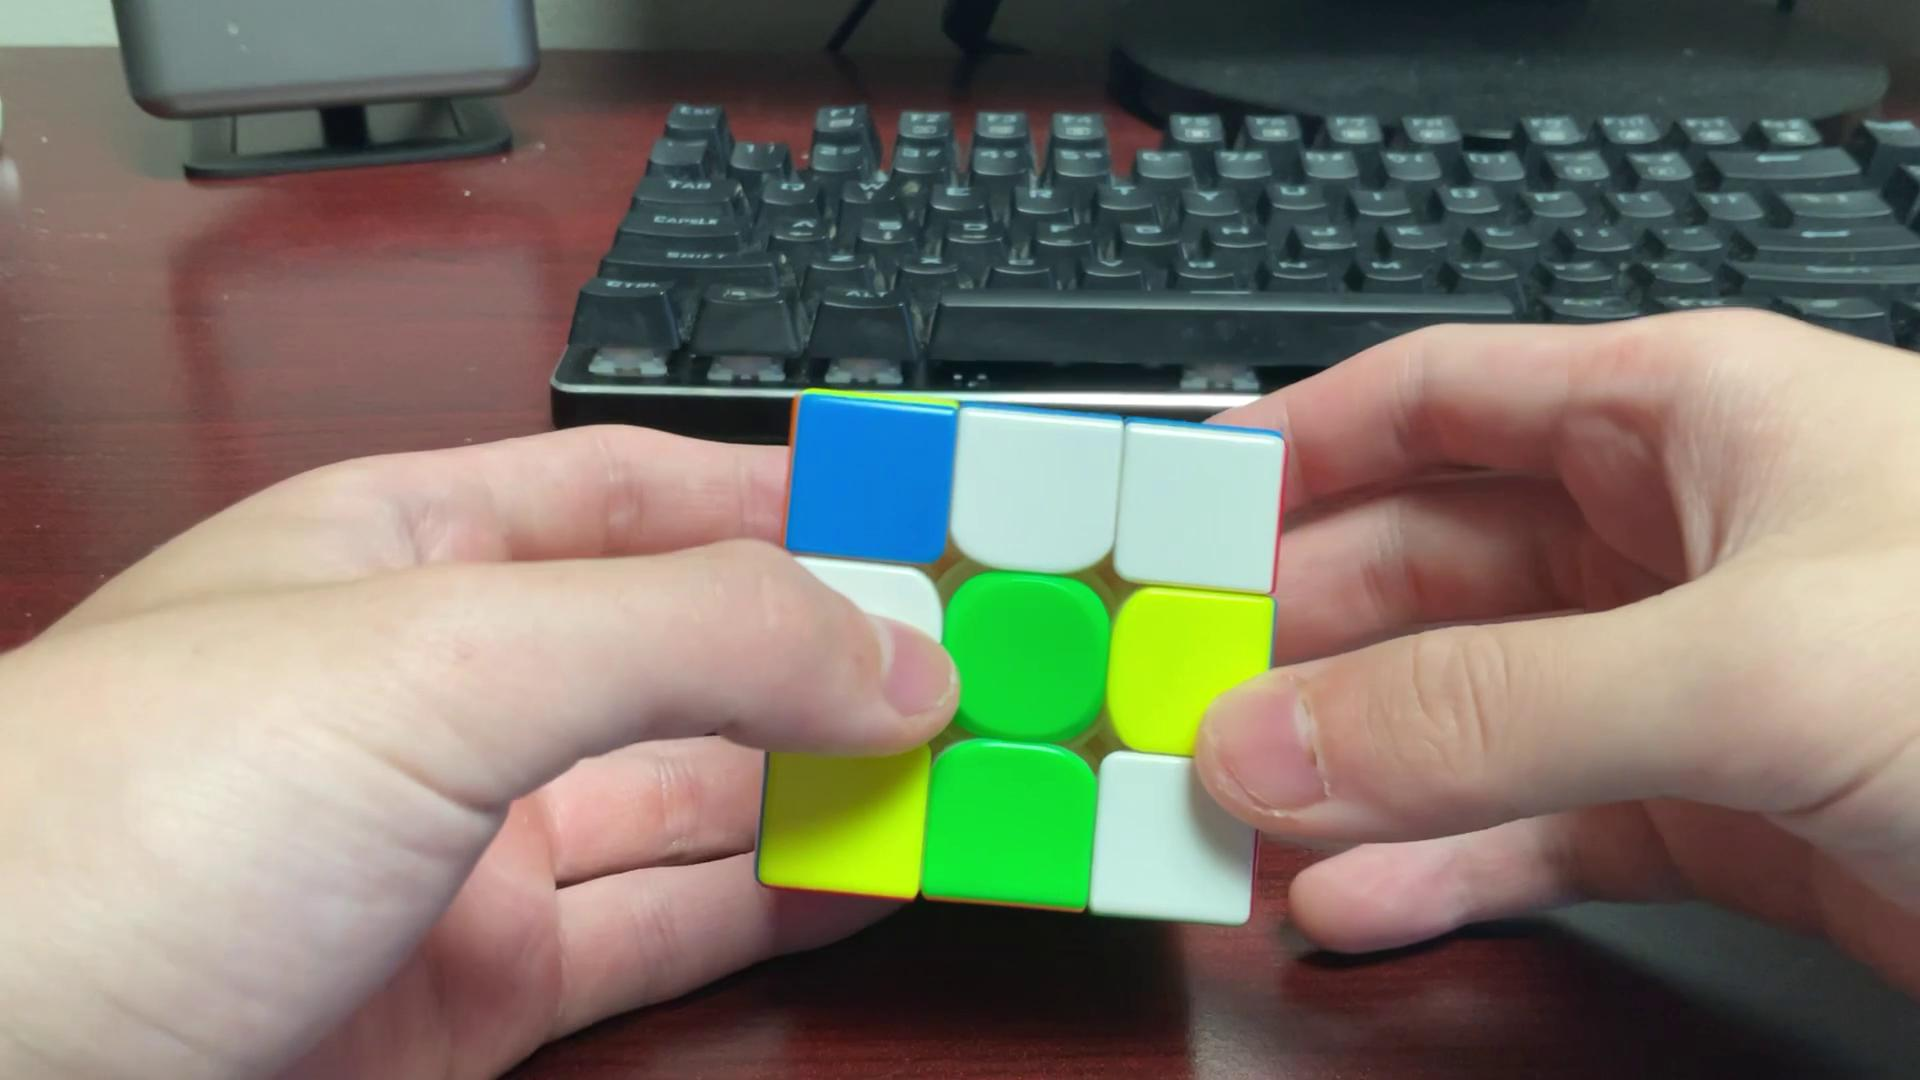Rubiks-Cube: (746, 378, 1287, 939)
